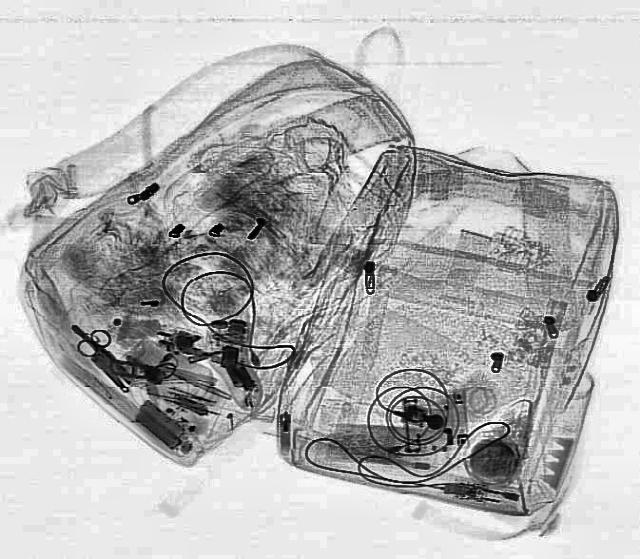Scissors: (68, 325, 146, 391)
